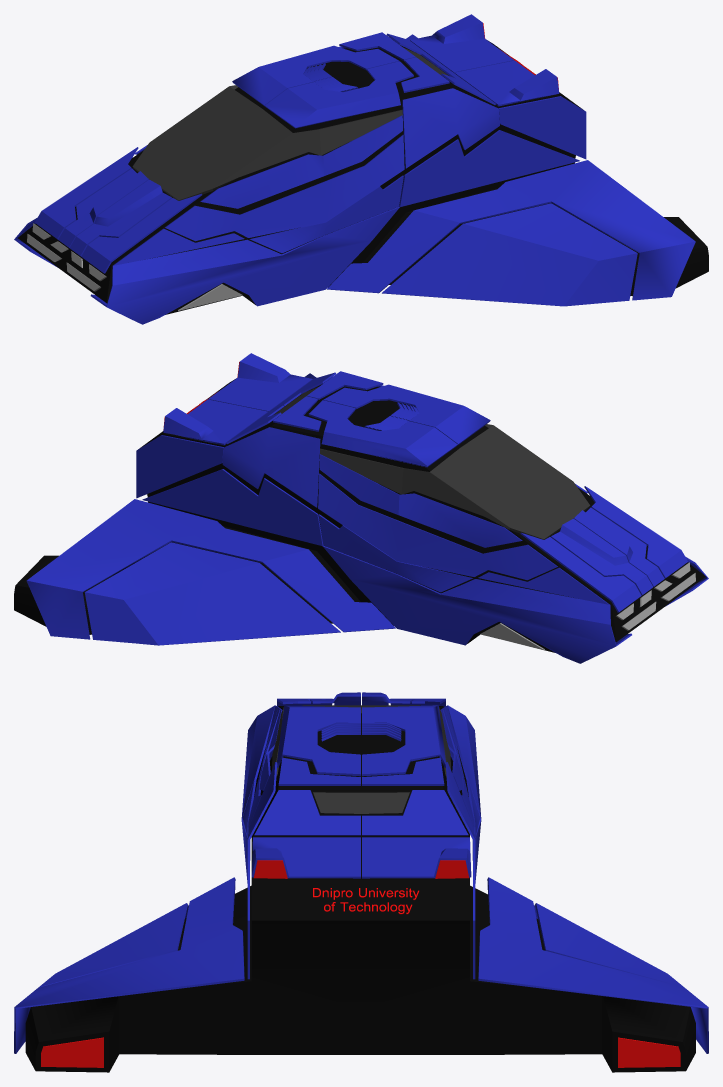
File: ship 4.fbx
3 views of the same model, one above another, from view 1: azimuth 30°, elevation 25°; view 2: azimuth 150°, elevation 25°; view 3: azimuth 270°, elevation 25° (orthographic). The views are drawn at different scales.
Visible parts, largest first — view 1: steel001, Glass001, Body001; view 2: steel001, Glass001, Body001; view 3: Body001, steel001, Glass001, TextPlus001.
Part boxes in pixels (bbox=[...]): steel001: bbox=[14, 14, 695, 324]; Glass001: bbox=[132, 47, 448, 200]; Body001: bbox=[18, 40, 708, 314]; steel001: bbox=[26, 353, 708, 663]; Glass001: bbox=[274, 386, 590, 539]; Body001: bbox=[14, 379, 705, 652]; Body001: bbox=[25, 706, 695, 1072]; steel001: bbox=[14, 692, 708, 1053]; Glass001: bbox=[272, 705, 450, 813]; TextPlus001: bbox=[313, 888, 419, 914].
Size of what is drawn, in the model's own units: 652 by 620 by 201.
